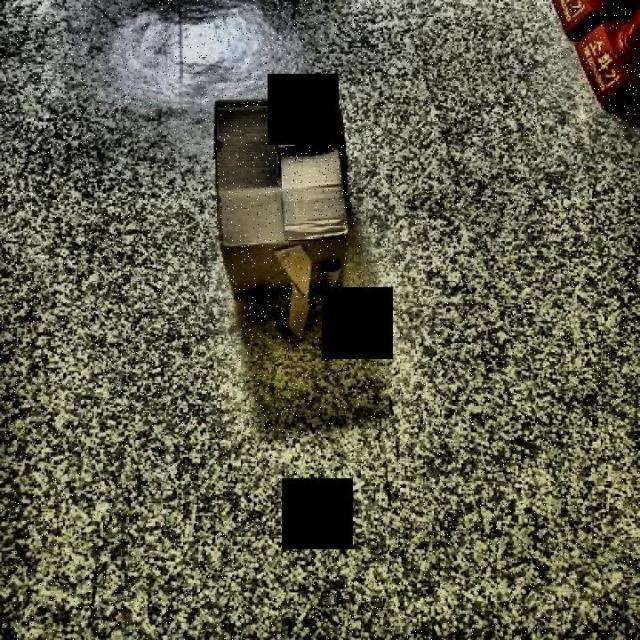box: (206, 83, 371, 313)
